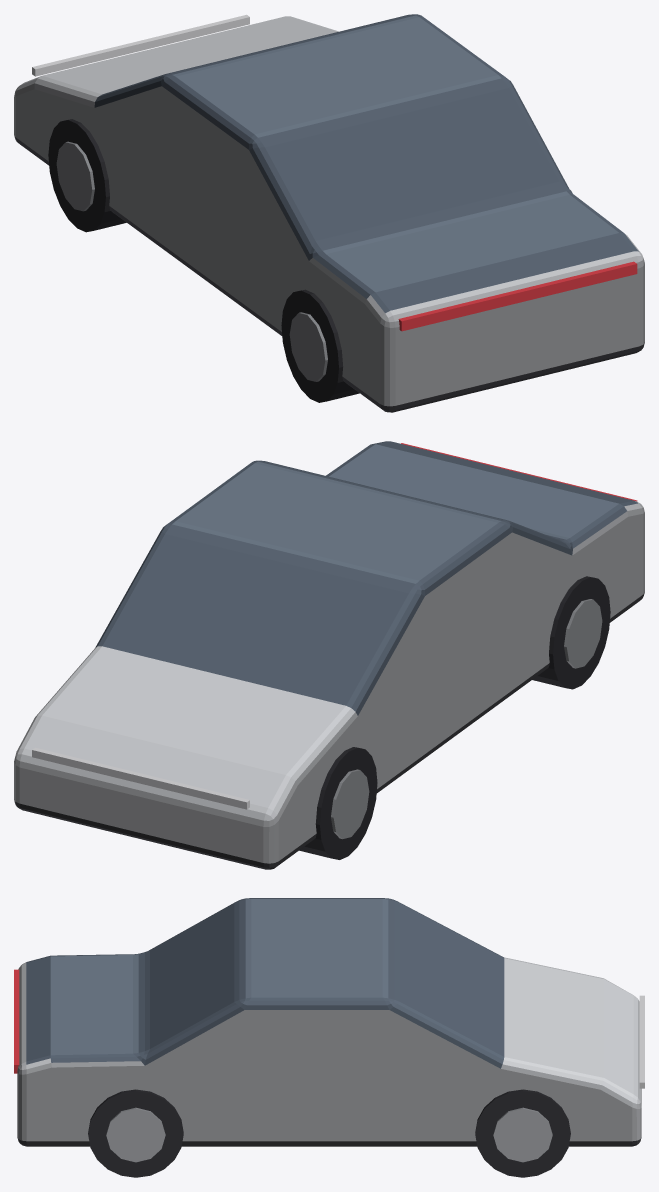
The model's file is aero.glb.
3 views of the same model, one above another, from view 1: azimuth 30°, elevation 25°; view 2: azimuth 150°, elevation 25°; view 3: azimuth 270°, elevation 25° (orthographic). The views are drawn at different scales.
Visible parts, largest first — view 1: aero; view 2: aero; view 3: aero.
Boxes of the visible parts, <box> form: aero: <box>14,14,644,412</box>; aero: <box>14,441,644,869</box>; aero: <box>14,898,644,1177</box>.
Bounding box in the file's own units: 2 × 1.45 × 4.75.
